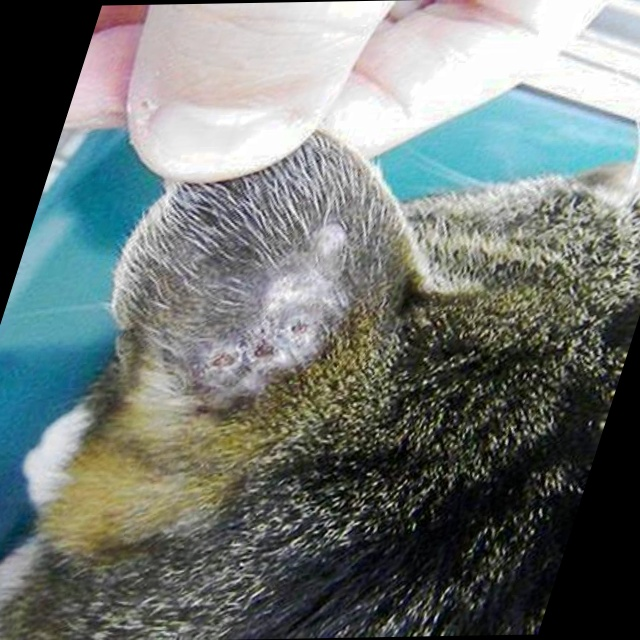ringworm: (195, 225, 373, 395)
